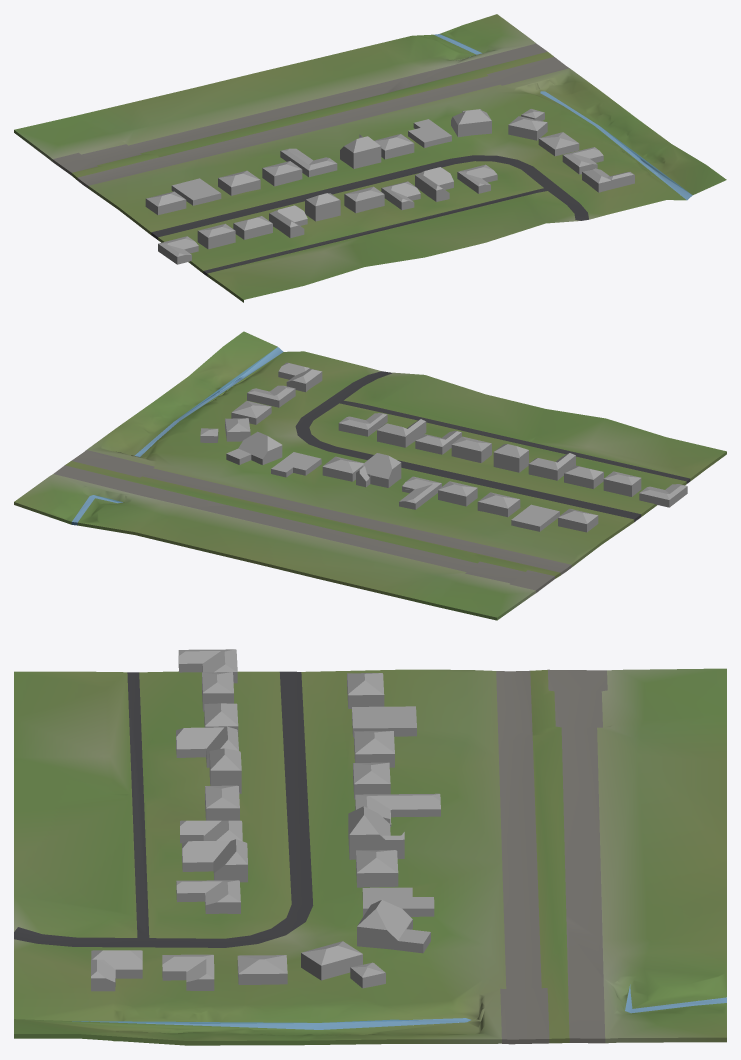
The picture shows the model from 3 angles, top to bottom: view 1: azimuth 30°, elevation 25°; view 2: azimuth 150°, elevation 25°; view 3: azimuth 270°, elevation 25°; orthographic projection. The views are drawn at different scales.
Parts seen in each view (by area): view 1: D-1-4.L0:utd:matte, D-1-4.L0:utd:matte:flat, D-1-4.L0:utd:water; view 2: D-1-4.L0:utd:matte, D-1-4.L0:utd:matte:flat, D-1-4.L0:utd:water; view 3: D-1-4.L0:utd:matte, D-1-4.L0:utd:matte:flat, D-1-4.L0:utd:water.
Boxes of the visible parts, x1,y1,x2,y2 form: D-1-4.L0:utd:matte: (14, 14, 726, 302); D-1-4.L0:utd:matte:flat: (145, 109, 634, 264); D-1-4.L0:utd:water: (434, 34, 692, 200); D-1-4.L0:utd:matte: (14, 331, 726, 620); D-1-4.L0:utd:matte:flat: (200, 362, 687, 532); D-1-4.L0:utd:water: (72, 347, 283, 522); D-1-4.L0:utd:matte: (14, 668, 726, 1045); D-1-4.L0:utd:matte:flat: (91, 649, 440, 991); D-1-4.L0:utd:water: (72, 984, 726, 1029).
Size of the model in its own units: 264 by 17.09 by 211.
